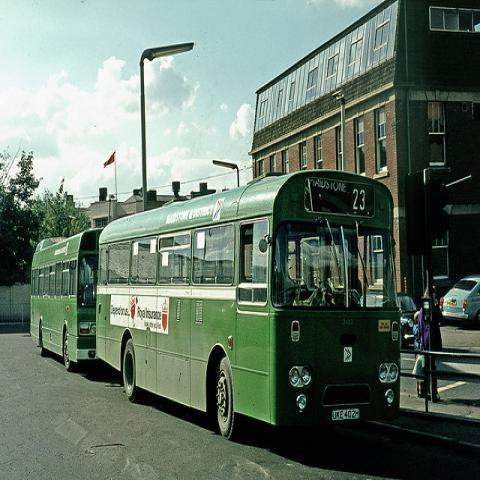bus: (93, 172, 401, 441), (29, 227, 106, 374)
car: (440, 274, 480, 330), (395, 293, 417, 341)
